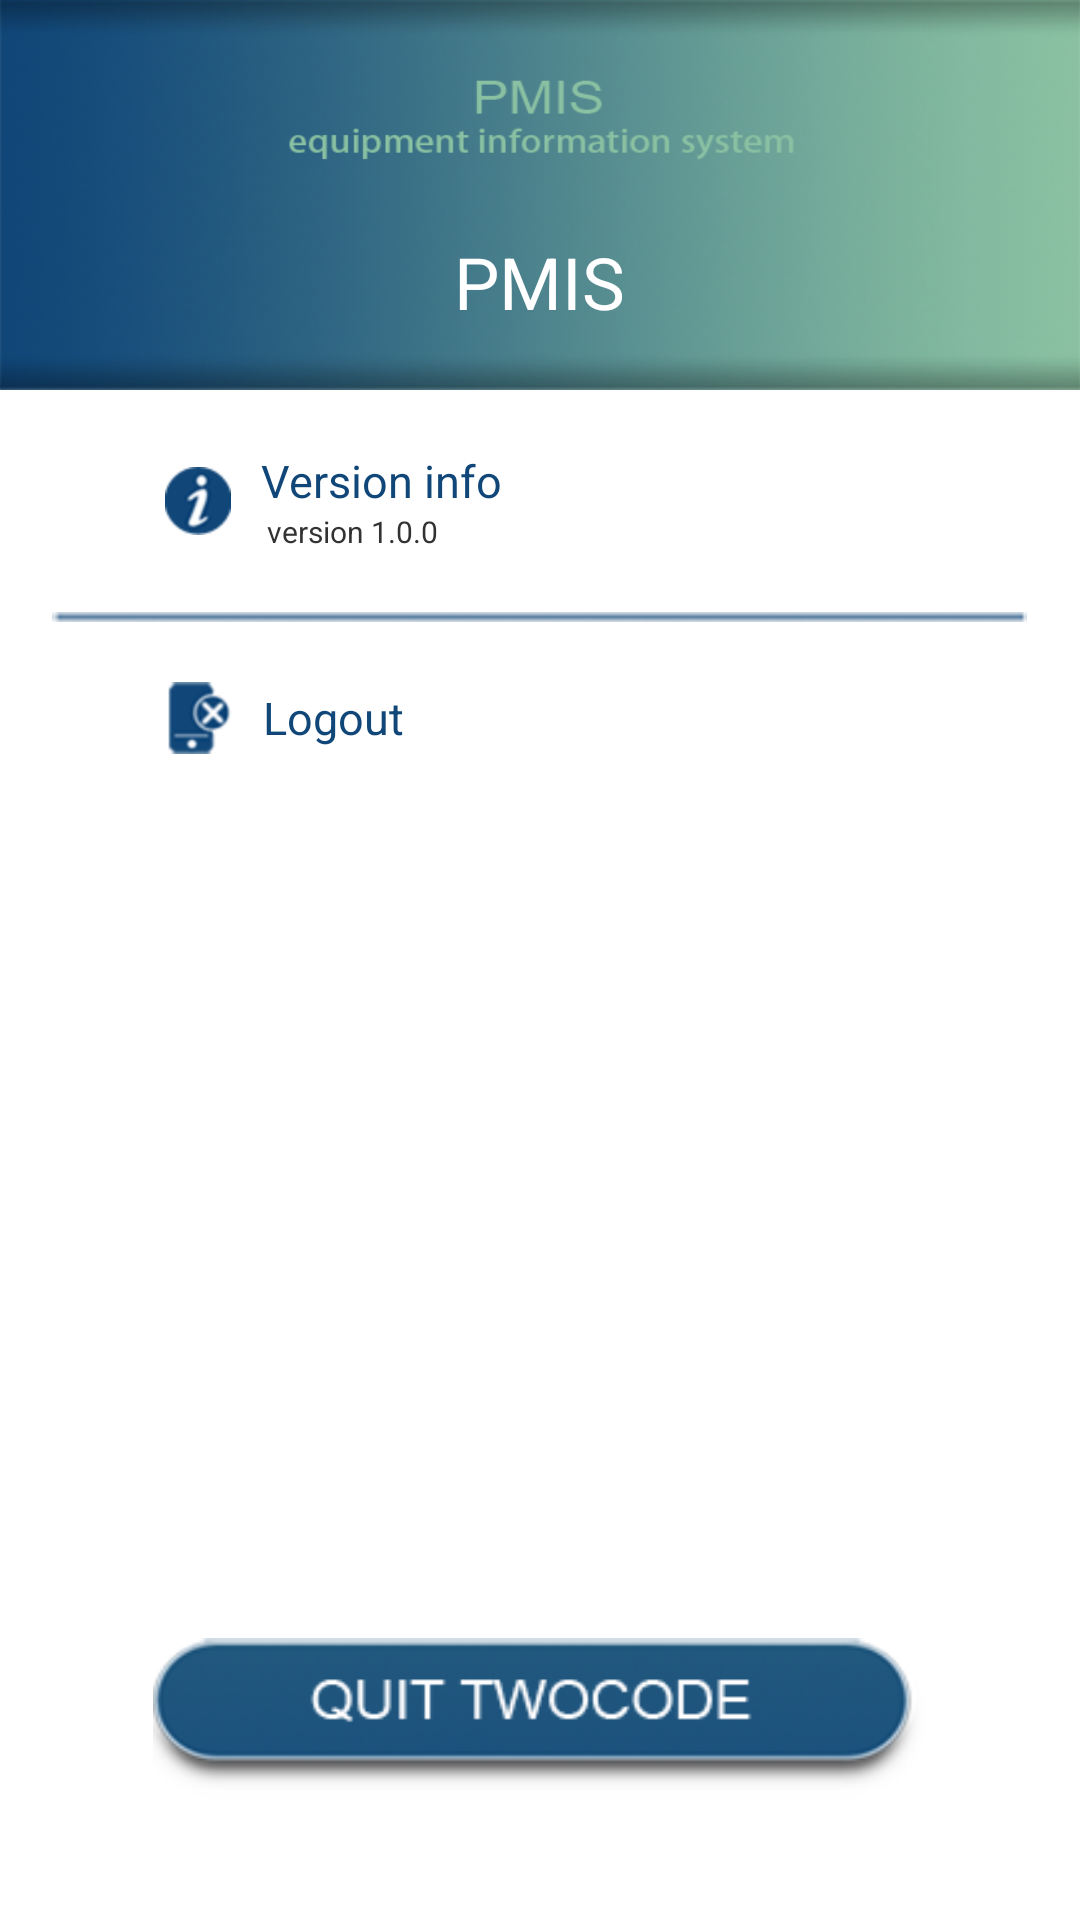

Locate icon controls on the screen. Image size 1080x1920, boxes as (x1, y1, x2, y2).
cancel: (168, 682, 230, 754)
